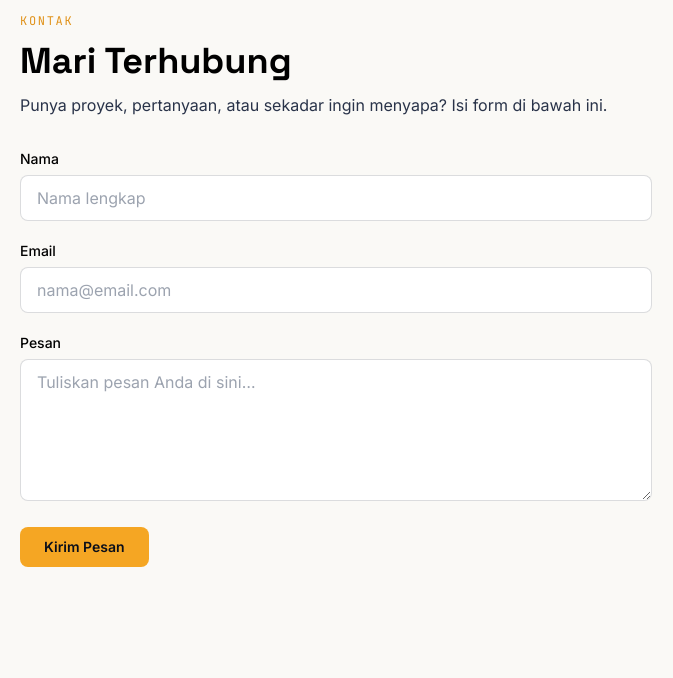
Contact form › menampilkan pesan sukses ketika semua data valid
Type "Budi Santoso" into the field labelled "Nama" at (336, 198), box [20,175,652,221]
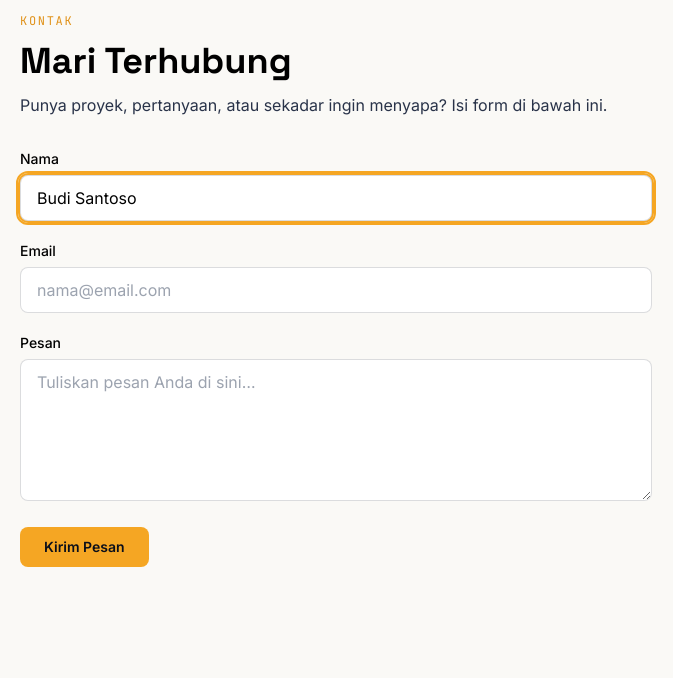
Type "budi@email.com" into the field labelled "Email" at (336, 290), box [20,267,652,313]
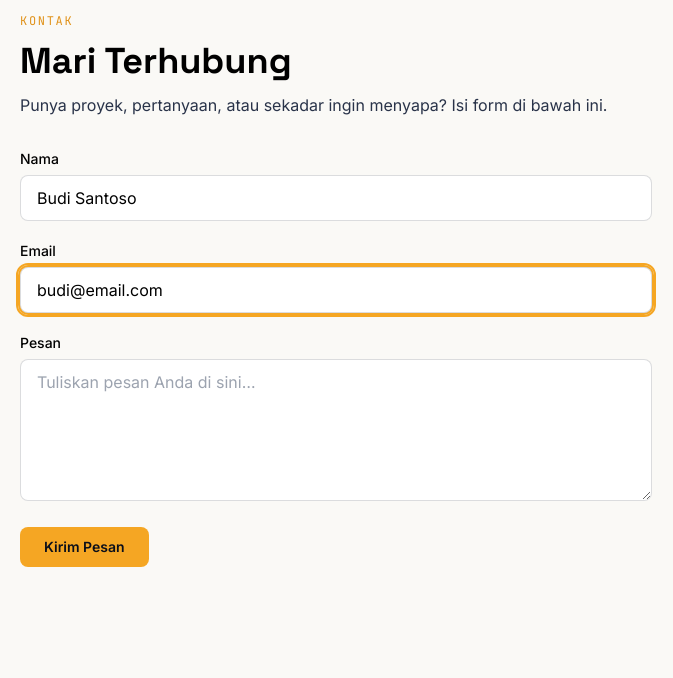
Type "Halo, saya ingin berkolaborasi." into the text box labelled "Pesan" at (336, 430), box [20,359,652,501]
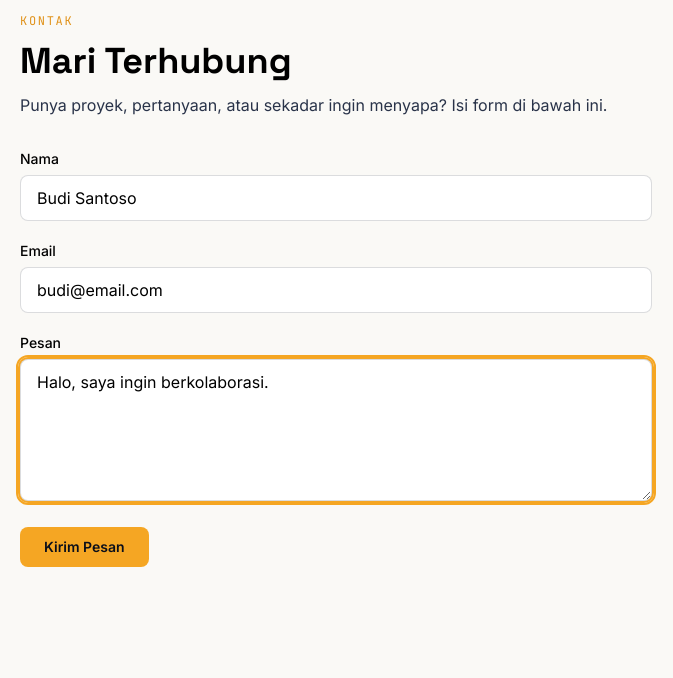
Click the button "Kirim Pesan" at (84, 547), box [20,527,149,567]
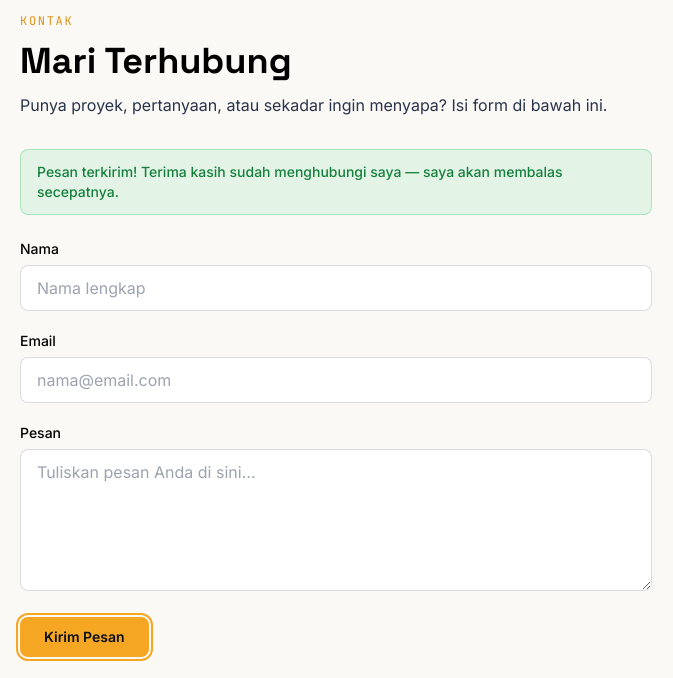
Now the message shows "Pesan terkirim!", box [37,163,563,200]
